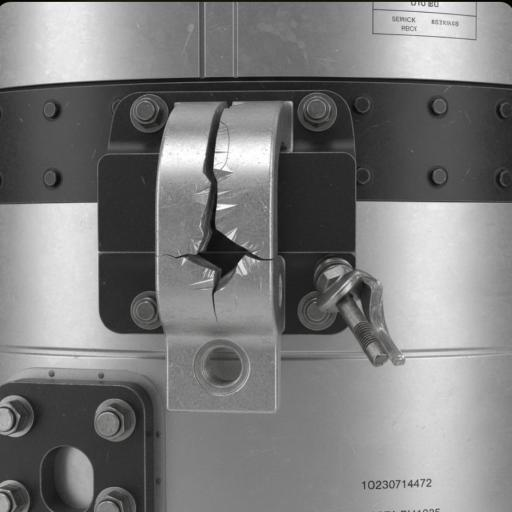fastening crack: (170, 113, 266, 322)
lack of details: (182, 349, 267, 402)
